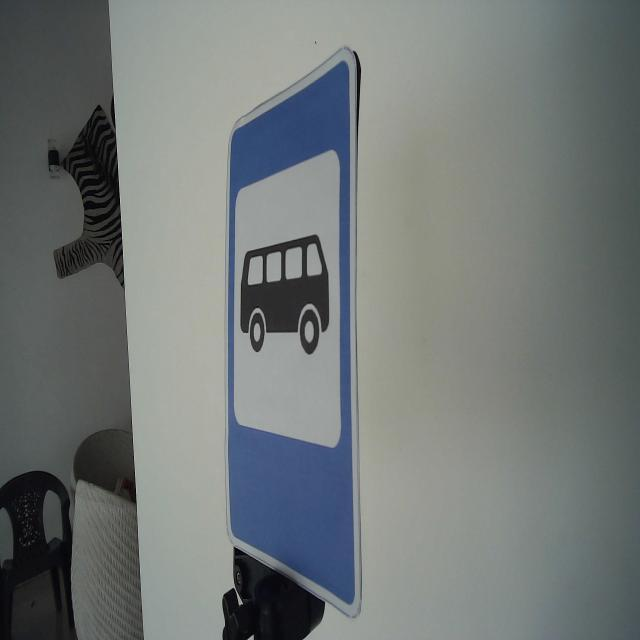bus_stop: (222, 42, 364, 622)
